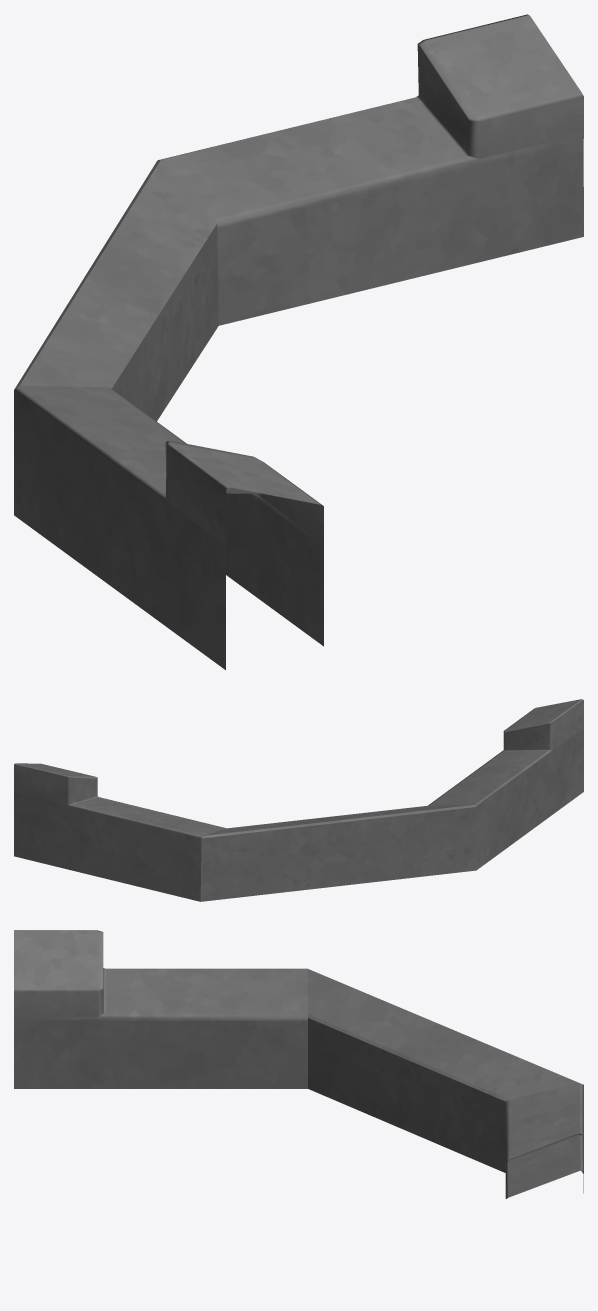
The model's file is BrickRailing_InsideBeveled.fbx.
3 views of the same model, one above another, from view 1: azimuth 30°, elevation 25°; view 2: azimuth 150°, elevation 25°; view 3: azimuth 270°, elevation 25° (orthographic). The views are drawn at different scales.
Visible parts, largest first — view 1: BrickRailing_InsideBeveled; view 2: BrickRailing_InsideBeveled; view 3: BrickRailing_InsideBeveled.
Part boxes in pixels (x1,y1,x2,y2): BrickRailing_InsideBeveled: [14, 14, 583, 669]; BrickRailing_InsideBeveled: [14, 699, 583, 901]; BrickRailing_InsideBeveled: [14, 930, 583, 1198].
Bounding box in the file's own units: 544 × 133 × 544.
1 material, 1 textured.
